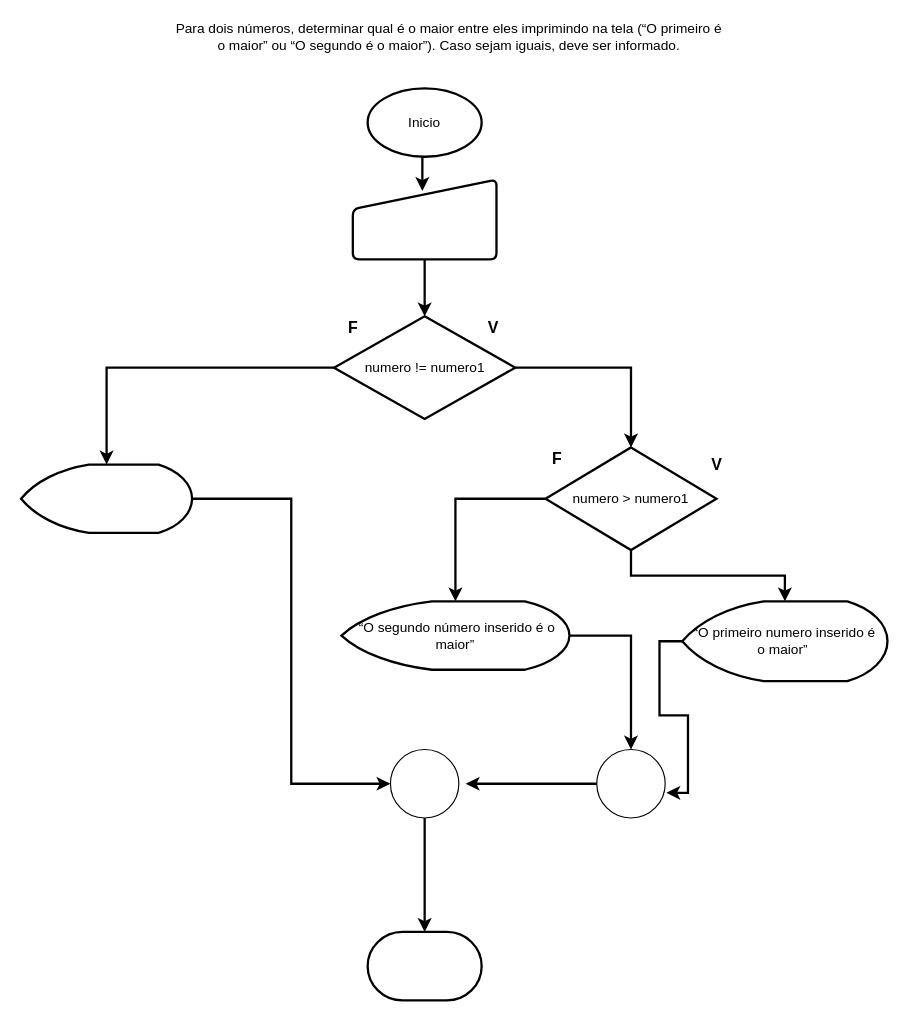
Image size: 907x1020. Some labels were removed from this diagram. Each missing label, with the centre of its shape:
"Os números são iguais": (106,498)
Fim: (424,965)
numero = 10 numero1 = 20: (424,219)
